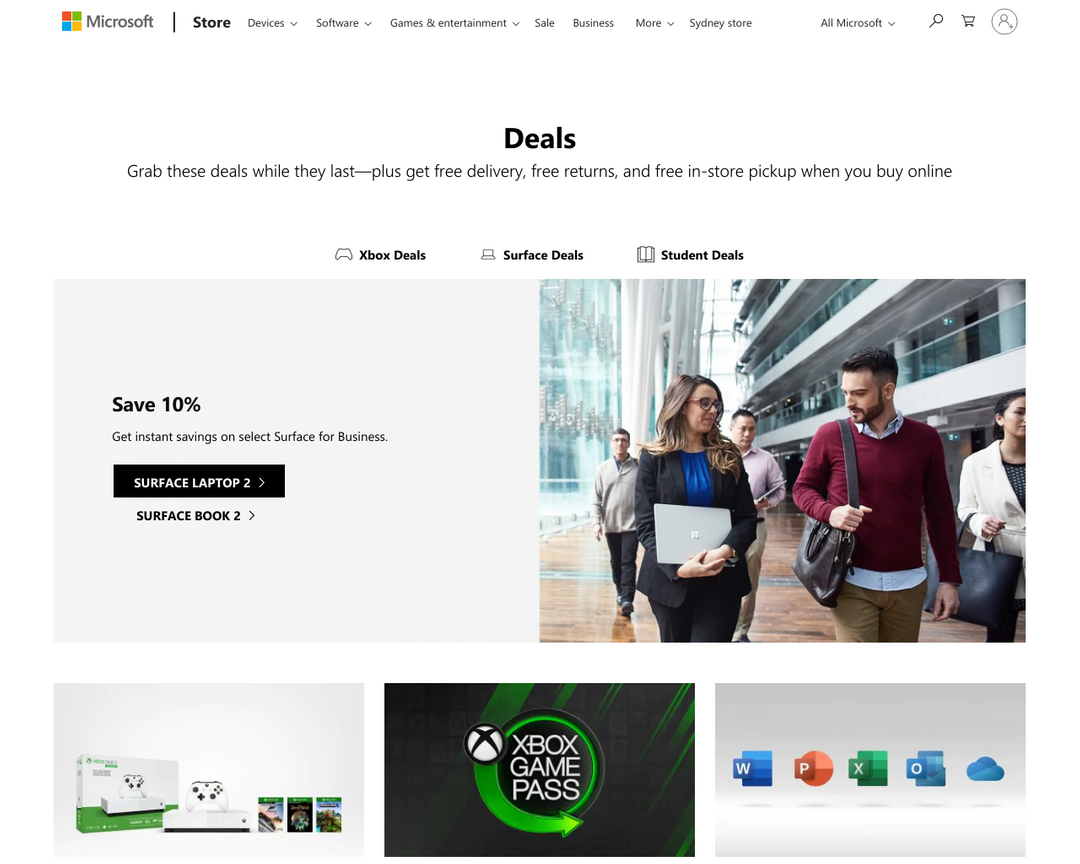Microsoft: (436, 152, 541, 185)
